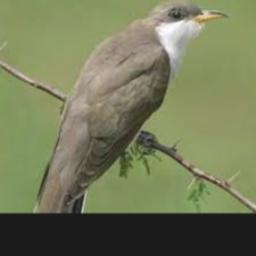Cuckoo: (32, 0, 228, 213)
